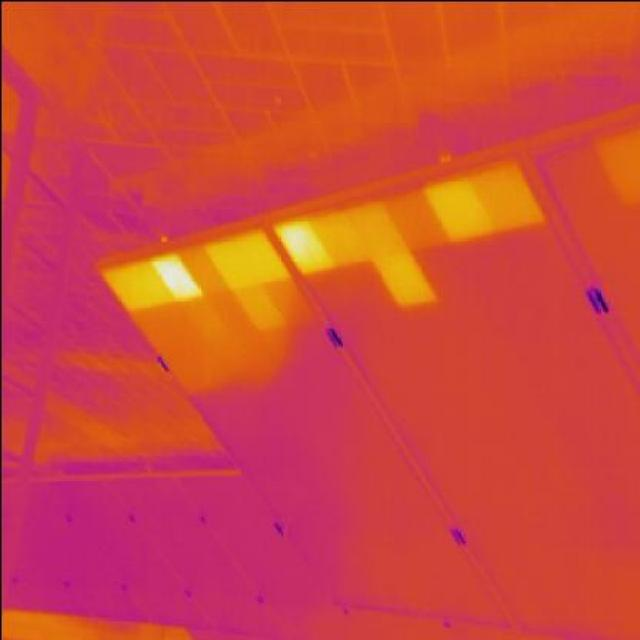hotspot: (466, 158, 546, 236), (267, 210, 338, 276), (423, 176, 494, 242), (306, 202, 371, 269), (369, 252, 438, 310), (197, 234, 257, 295), (146, 247, 202, 305), (233, 279, 289, 332)
